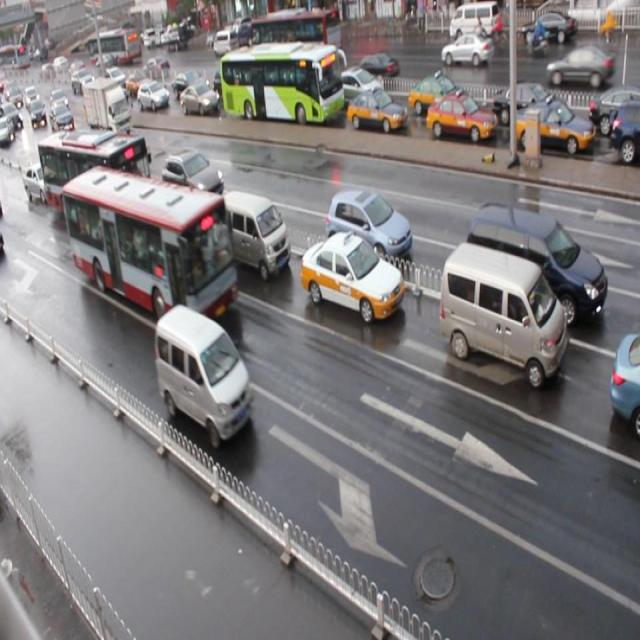bus: (84, 77, 132, 140)
car: (299, 228, 402, 322), (326, 188, 411, 266), (514, 99, 594, 159), (138, 187, 206, 252), (425, 92, 497, 144), (163, 147, 224, 205), (494, 82, 569, 128), (608, 330, 640, 434), (345, 87, 406, 133), (406, 74, 468, 118), (586, 89, 640, 135), (332, 64, 386, 108), (609, 99, 640, 161), (22, 159, 60, 204), (180, 79, 220, 115), (212, 69, 245, 104), (172, 72, 208, 97), (138, 81, 169, 109), (49, 103, 75, 135), (105, 81, 130, 110), (128, 71, 154, 95)
truck: (438, 240, 566, 388), (465, 203, 606, 328), (155, 305, 254, 449), (214, 187, 289, 281)
van: (63, 165, 241, 342), (37, 126, 154, 235), (216, 42, 339, 125)
